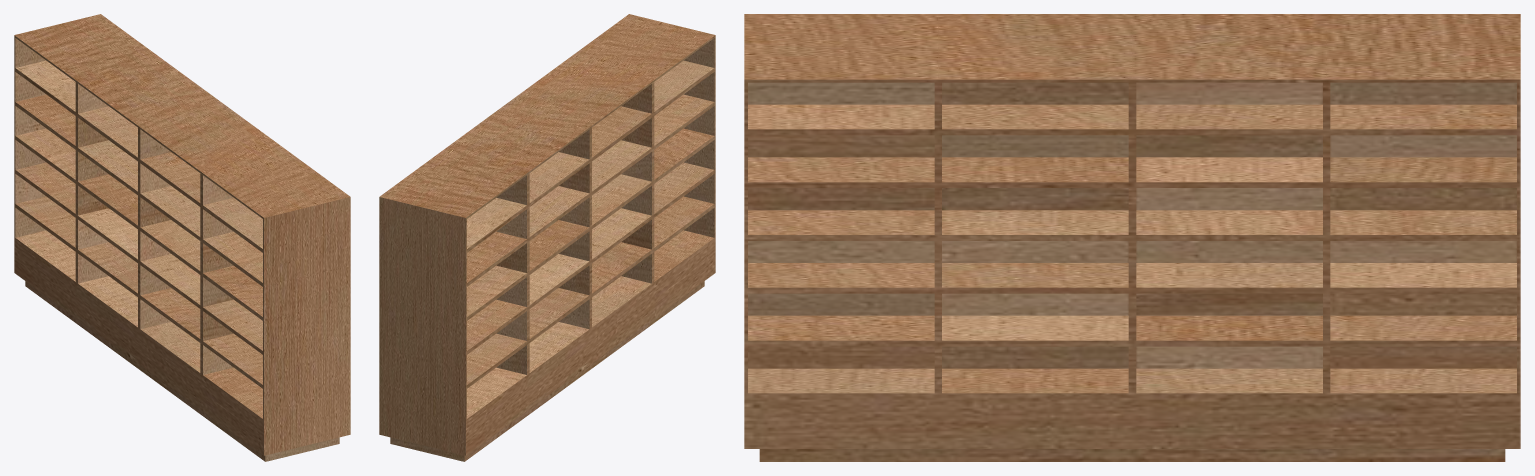
Rendered from Shelf6x4.fbx.
3 renders of one model, left to right at view 1: azimuth 30°, elevation 25°; view 2: azimuth 150°, elevation 25°; view 3: azimuth 270°, elevation 25°, orthographic. The views are drawn at different scales.
Visible parts, largest first — view 1: Shelf6x4; view 2: Shelf6x4; view 3: Shelf6x4.
Boxes of the visible parts, bbox=[...] form: Shelf6x4: bbox=[14, 14, 350, 461]; Shelf6x4: bbox=[379, 14, 715, 461]; Shelf6x4: bbox=[744, 14, 1520, 461].
Size of the model in its own units: 160 by 440 by 800.
